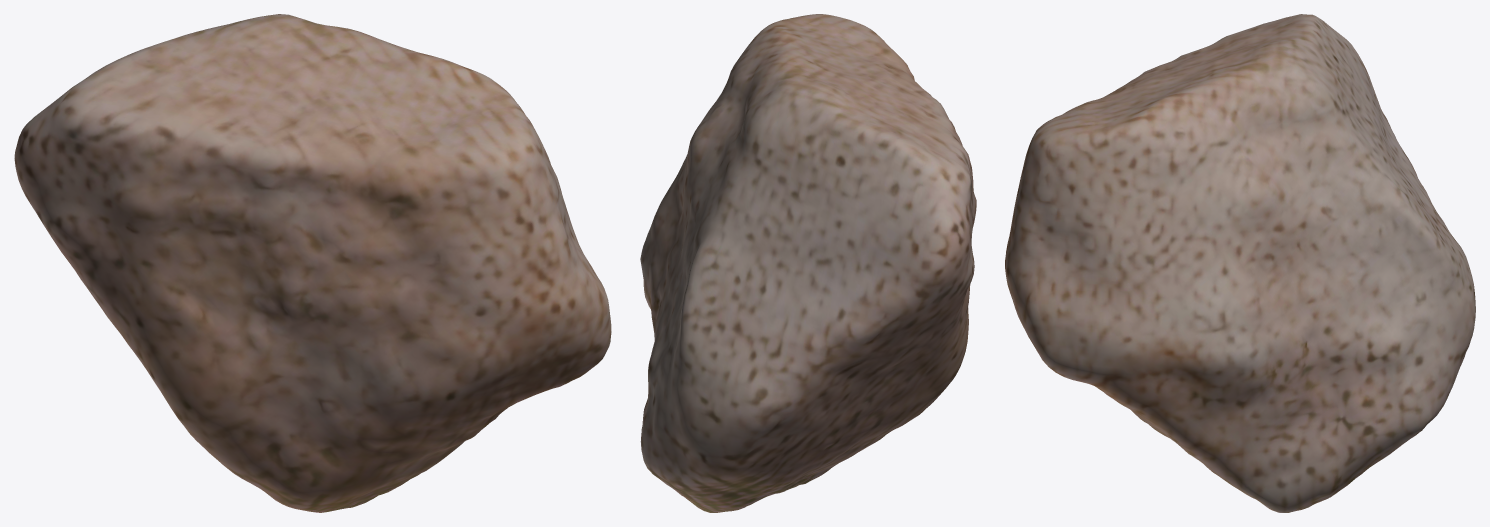
Rendered from 19c0b6d0f97b_A_grabbable_rock__3.fbx.
3 views of the same model, side by side, from view 1: azimuth 30°, elevation 25°; view 2: azimuth 150°, elevation 25°; view 3: azimuth 270°, elevation 25° (orthographic). The views are drawn at different scales.
Parts seen in each view (by area): view 1: mesh; view 2: mesh; view 3: mesh.
Boxes of the visible parts, <box> form: mesh: <box>14,14,611,512</box>; mesh: <box>640,14,976,512</box>; mesh: <box>1005,14,1475,512</box>.
Bounding box in the file's own units: 89.75 × 97.34 × 99.96.
